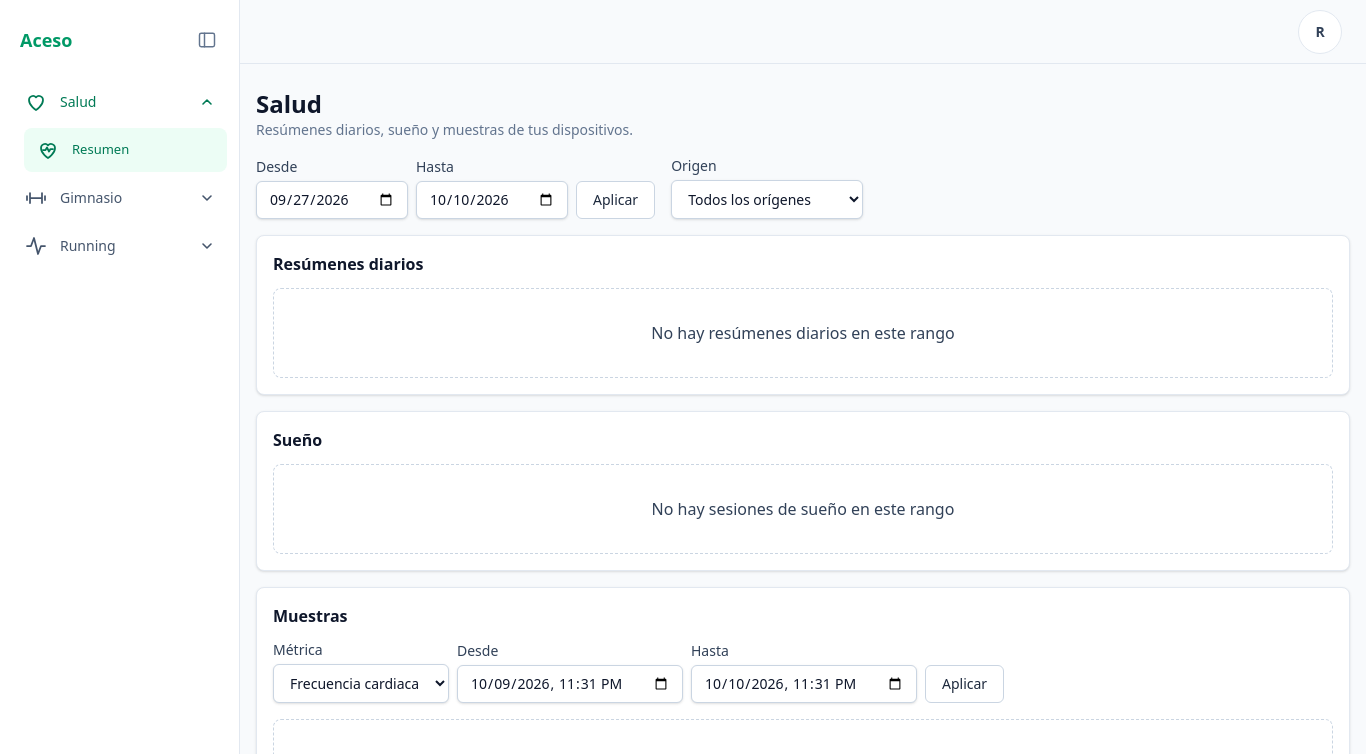
Test: health dashboard › blocks summary ranges longer than the backend limit
This screenshot has width=1366, height=754.
Type "2024-01-01" into the date field labelled "Desde".
click(332, 200); type("2024-01-01")  # box [256,181,408,219]
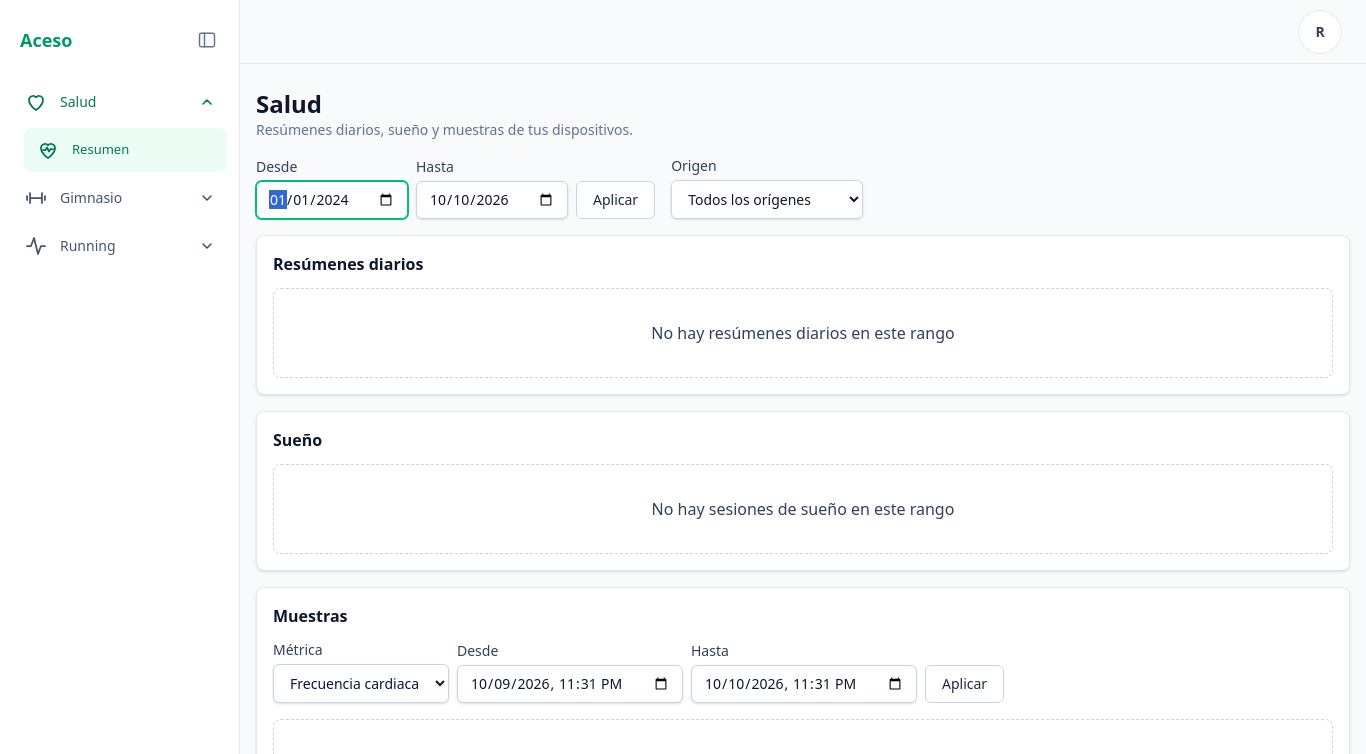
Click the button "Aplicar" below "Origen".
click(616, 200)  # box [576,181,655,219]
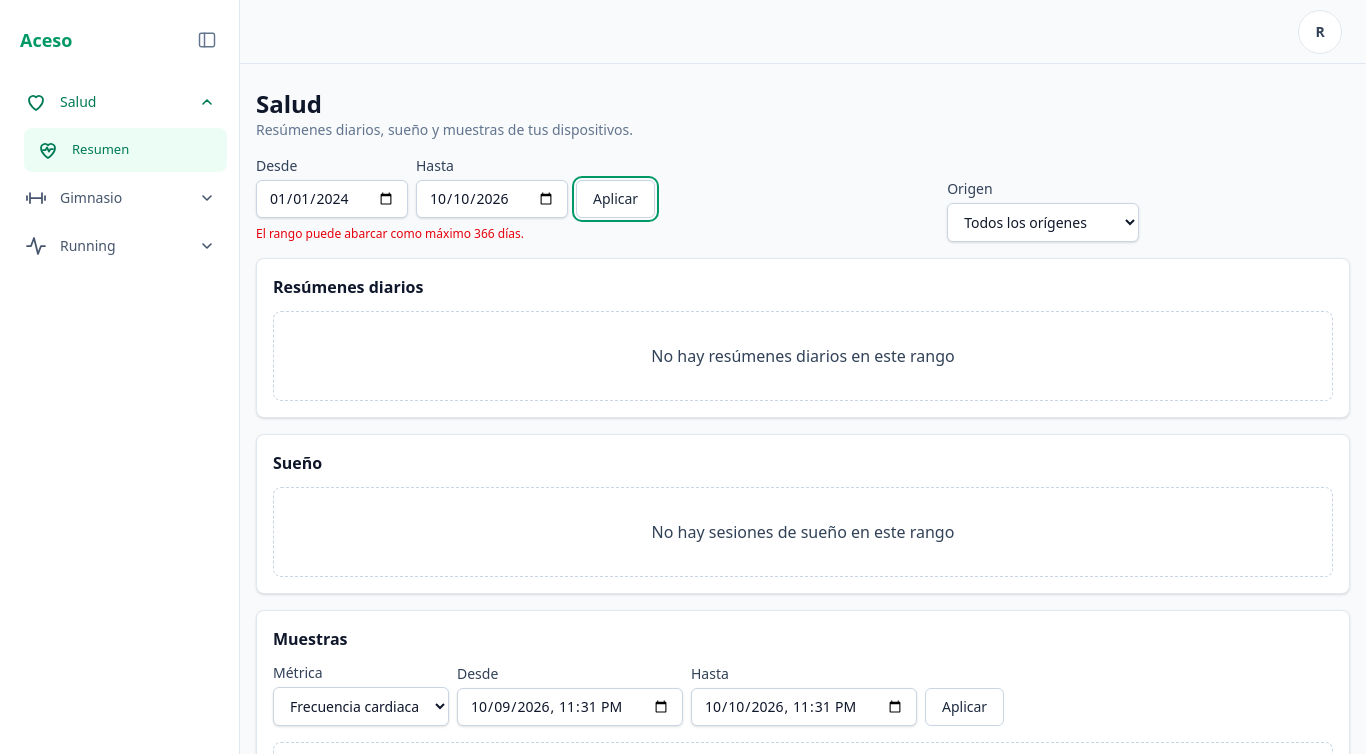
Expected: the text "El rango puede abarcar como máximo 366 días." is shown, [256,225,524,242]
